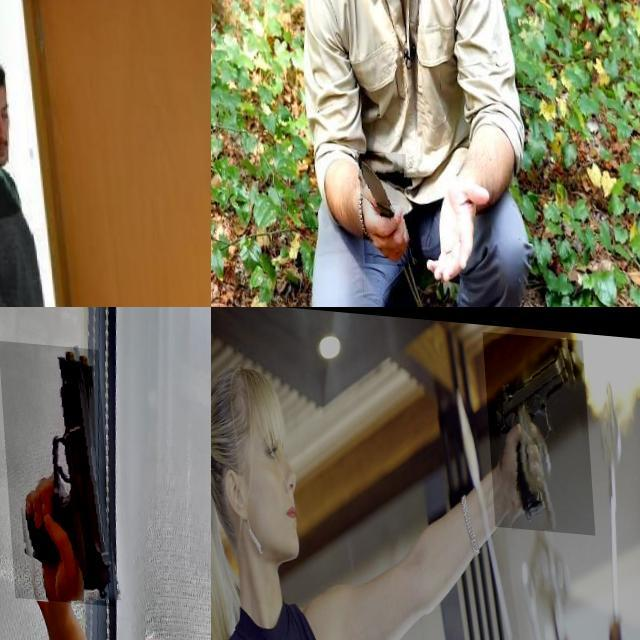-: (352, 144, 407, 260)
gun-knife-thesis - v11 Yolov5 augmented: (0, 337, 110, 601), (482, 324, 592, 526)
